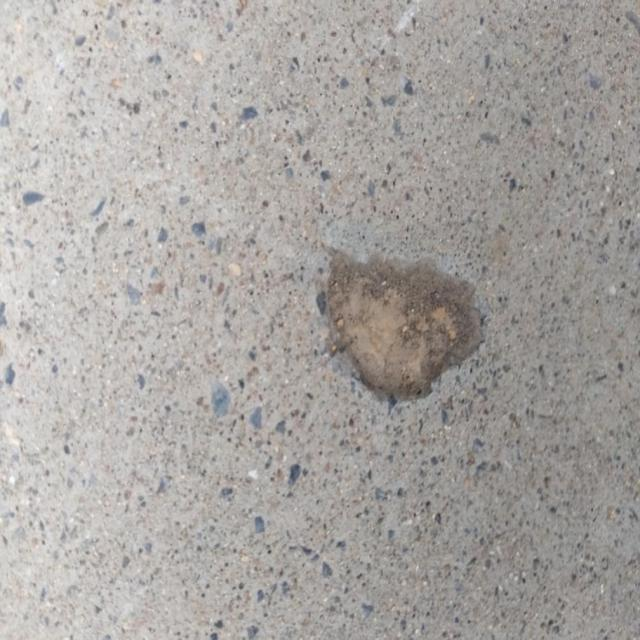concrete spalling: (318, 244, 487, 403)
